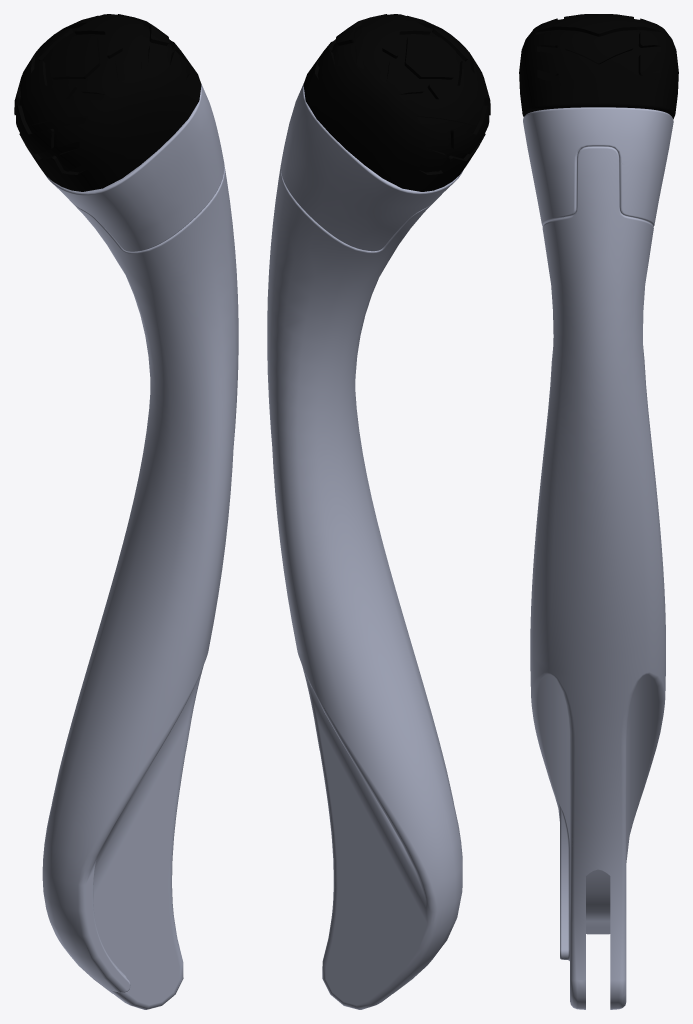
The model's file is calf.obj.
3 views of the same model, side by side, from view 1: azimuth 30°, elevation 25°; view 2: azimuth 150°, elevation 25°; view 3: azimuth 270°, elevation 25° (orthographic).
Visible parts, largest first — view 1: calf; view 2: calf; view 3: calf.
Part boxes in pixels (left/top/right/bottom): calf: left=14, top=14, right=238, bottom=1009; calf: left=267, top=14, right=490, bottom=1009; calf: left=519, top=14, right=678, bottom=1009.
Bounding box in the file's own units: 0.0584 × 0.2667 × 0.0396.
